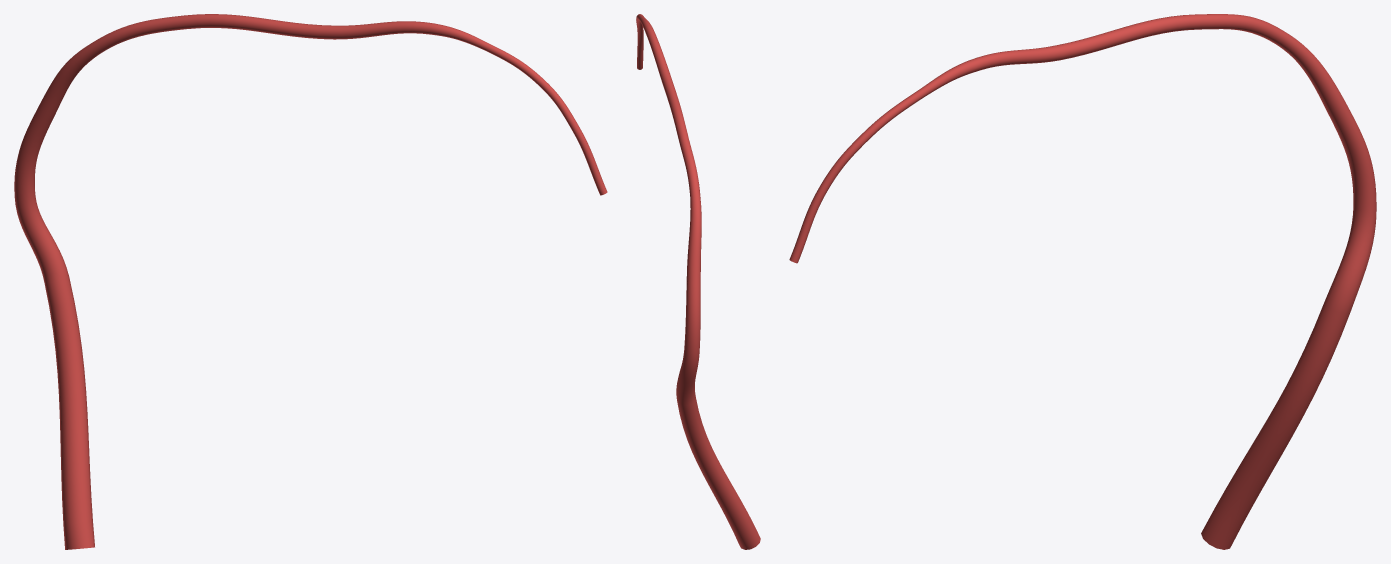
3 views of the same model, side by side, from view 1: azimuth 30°, elevation 25°; view 2: azimuth 150°, elevation 25°; view 3: azimuth 270°, elevation 25° (orthographic). The views are drawn at different scales.
Visible parts, largest first — view 1: 左侧旋股内侧动脉; view 2: 左侧旋股内侧动脉; view 3: 左侧旋股内侧动脉.
Part boxes in pixels (x1,y1,x2,y2): 左侧旋股内侧动脉: (14, 14, 607, 549); 左侧旋股内侧动脉: (636, 14, 760, 549); 左侧旋股内侧动脉: (789, 14, 1376, 549).
Size of the model in its own units: 0.0515 by 0.0772 by 0.0665.
